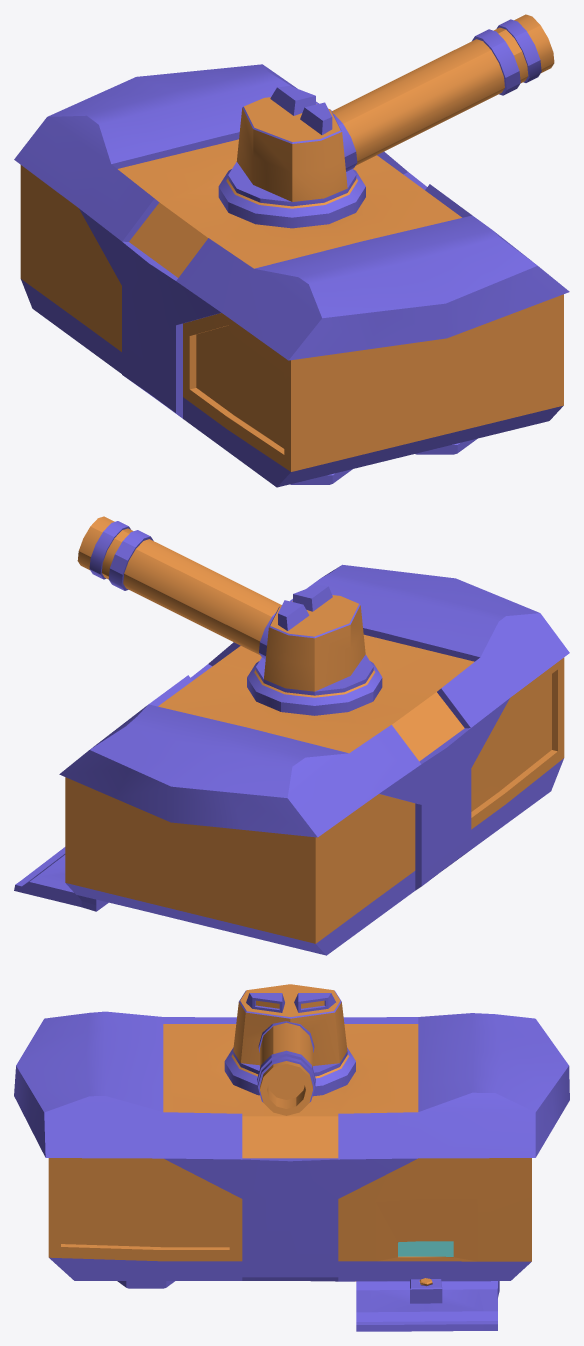
The model's file is Train_CannonCar.fbx.
The picture shows the model from 3 angles, top to bottom: view 1: azimuth 30°, elevation 25°; view 2: azimuth 150°, elevation 25°; view 3: azimuth 270°, elevation 25°; orthographic projection. The views are drawn at different scales.
Parts seen in each view (by area): view 1: Train_CannonCar; view 2: Train_CannonCar; view 3: Train_CannonCar.
Boxes of the visible parts, <box> form: Train_CannonCar: <box>14,14,569,487</box>; Train_CannonCar: <box>14,516,569,955</box>; Train_CannonCar: <box>14,984,569,1331</box>.
Bounding box in the file's own units: 2861 × 2250 × 3920.
